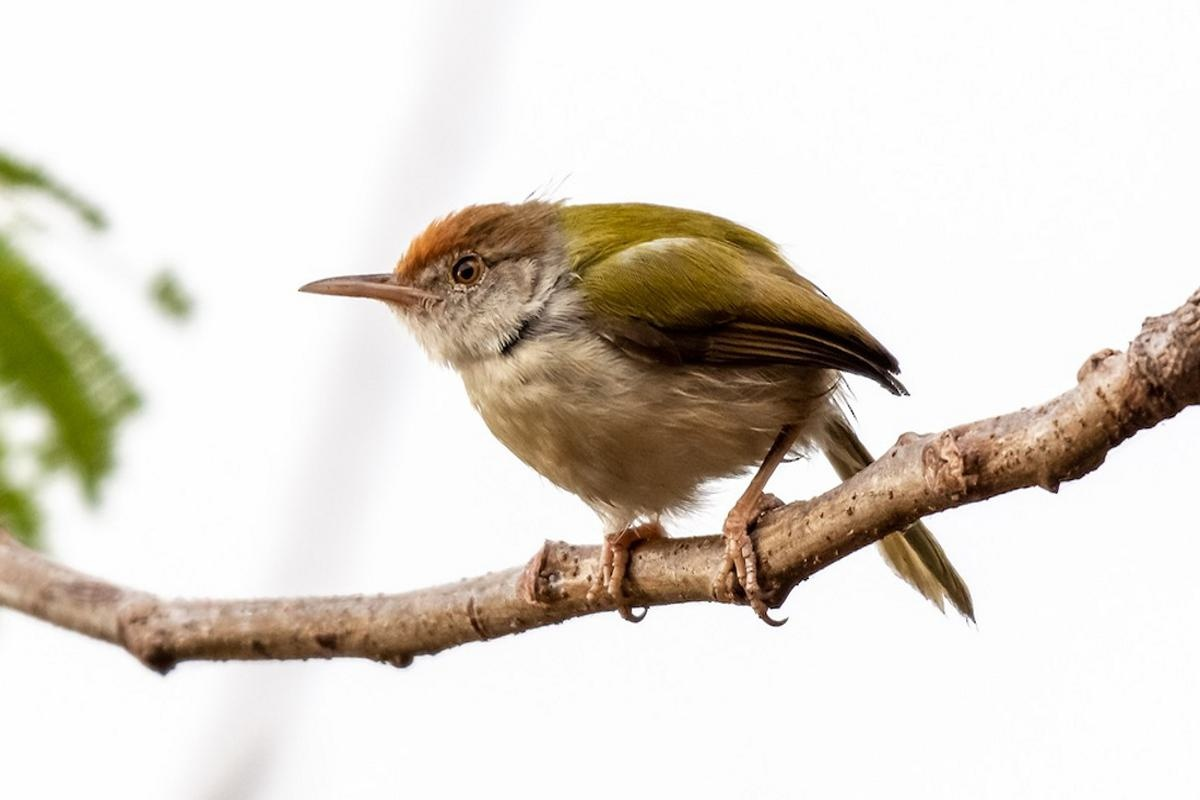tailorbird: (305, 194, 979, 611)
